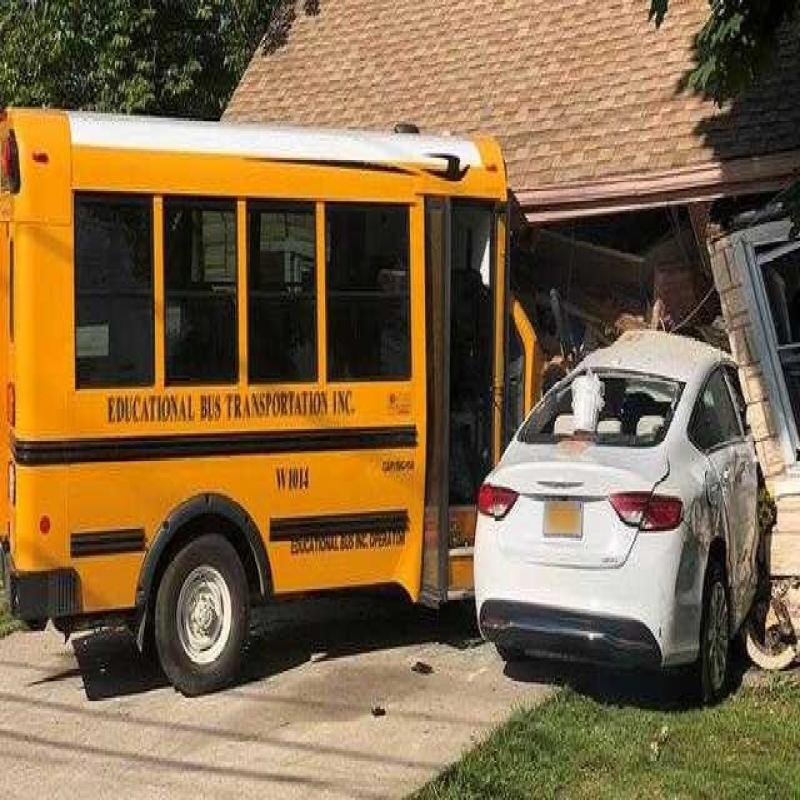bus: (0, 40, 555, 675)
